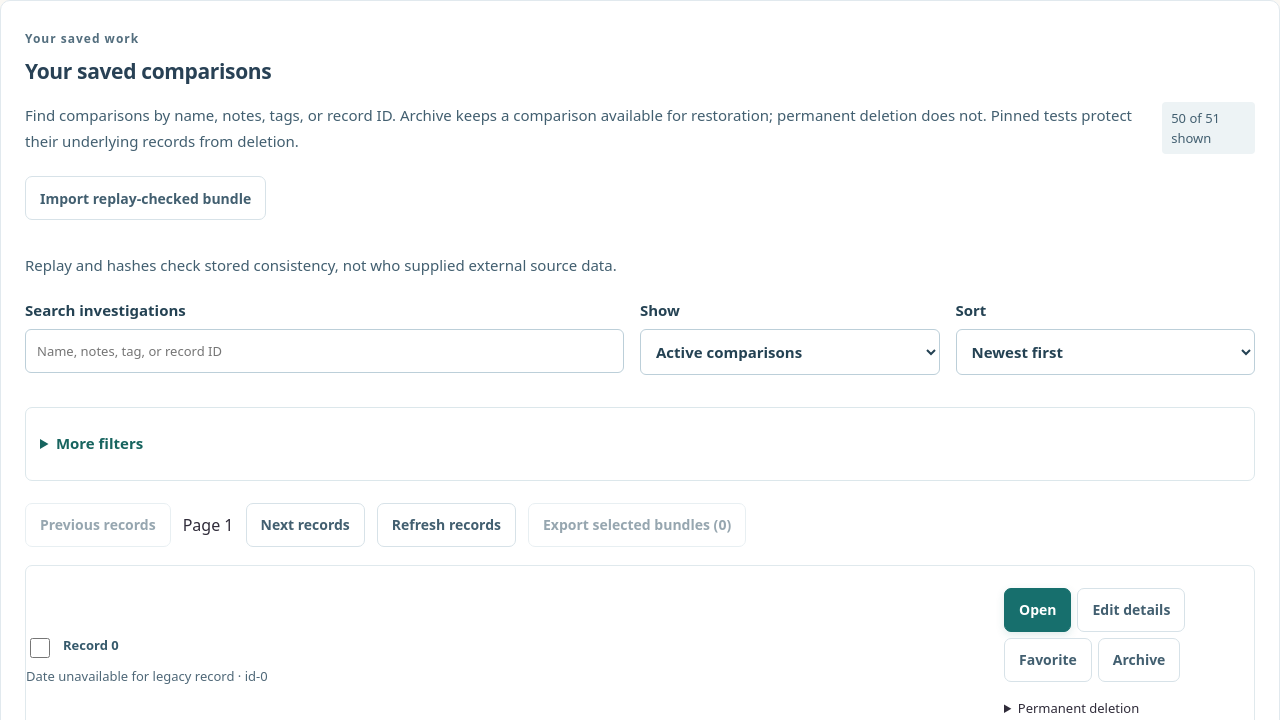
Test: older investigations remain reachable and searching resets the page
Expected: the text "Record 0" is shown, [63,634,119,655]
Click the button "Next records" at (305, 525), box [246,503,365,547]
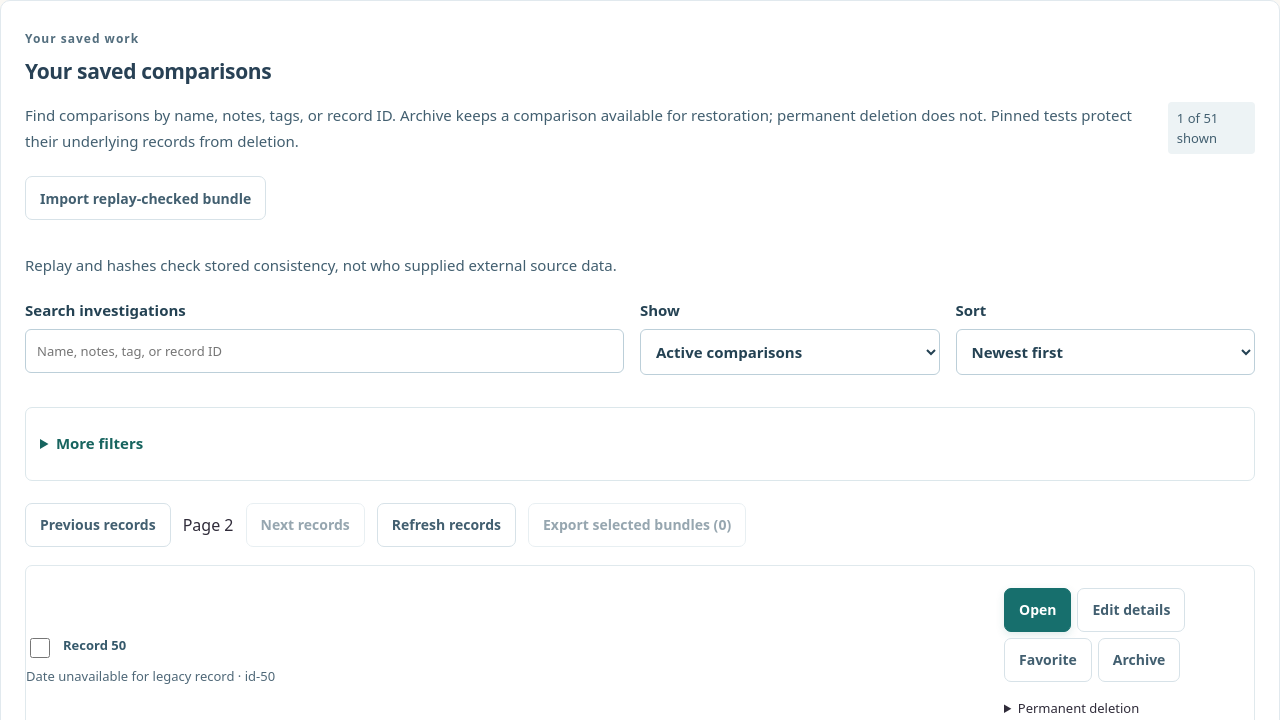
Expected: the text "Record 50" is shown, [63,634,126,655]
Expected: the text "Record 0" is gone
Type "Record 0" into the field labelled "Search investigations" at (324, 351), box [25,329,624,373]
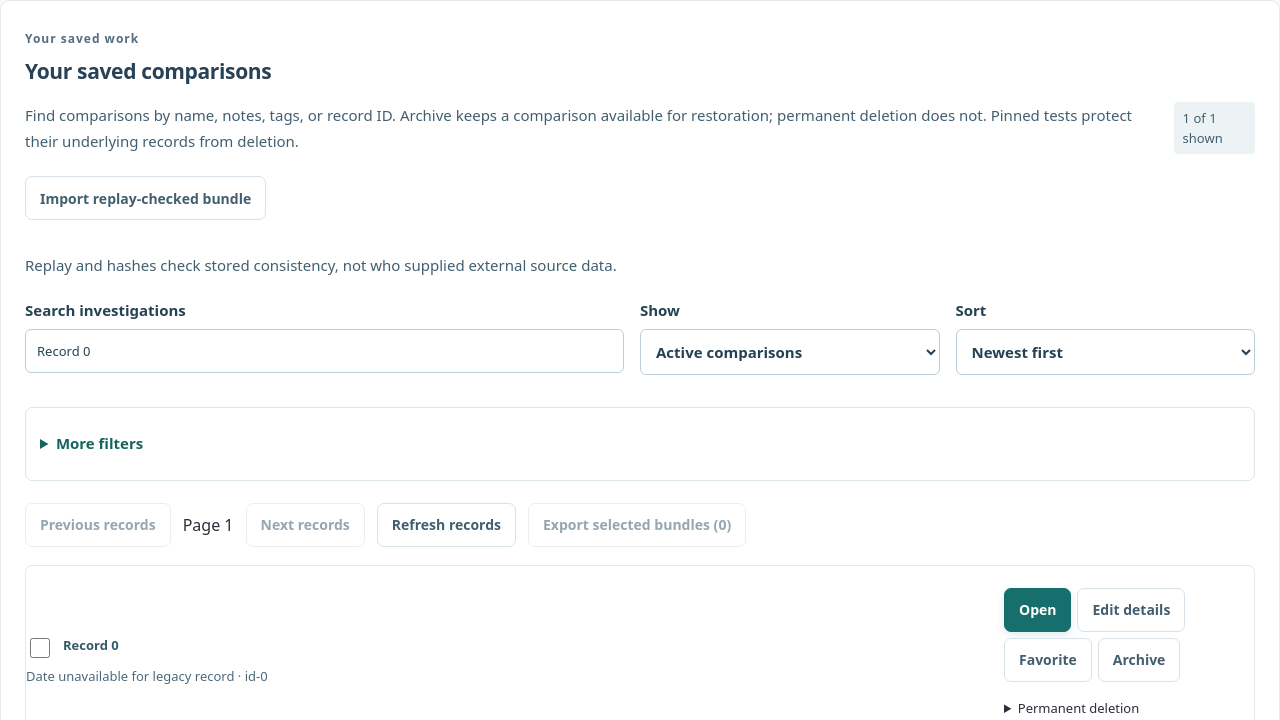
Expected: the text "Record 0" is shown, [63,634,119,655]
Expected: the button "Previous records" is disabled, [25,503,171,547]
